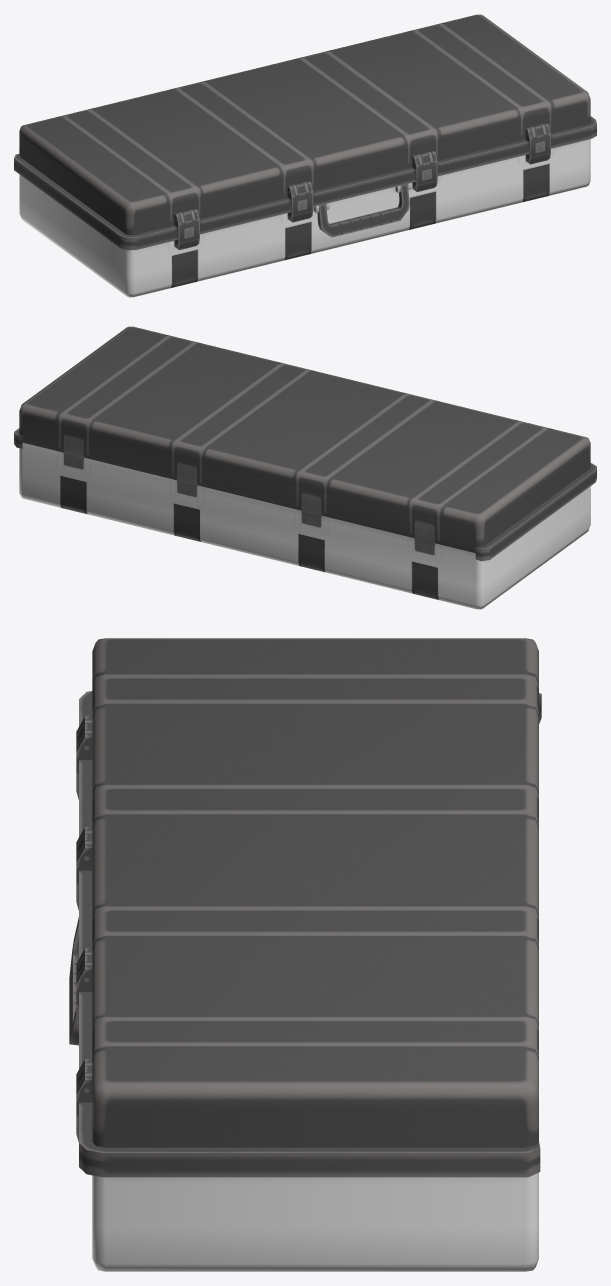
Rendered from WeaponStorageCase02_3.FBX.
3 views of the same model, one above another, from view 1: azimuth 30°, elevation 25°; view 2: azimuth 150°, elevation 25°; view 3: azimuth 270°, elevation 25° (orthographic). The views are drawn at different scales.
Visible parts, largest first — view 1: Cover3, WeaponCase02_3; view 2: Cover3, WeaponCase02_3; view 3: Cover3, WeaponCase02_3.
Part boxes in pixels (box(x1,y1,x2,y2)): Cover3: box(14, 14, 596, 250); WeaponCase02_3: box(14, 130, 596, 297); Cover3: box(14, 326, 596, 554); WeaponCase02_3: box(14, 438, 596, 609); Cover3: box(76, 638, 541, 1165); WeaponCase02_3: box(69, 706, 541, 1271).
Size of what is drawn, in the model's own units: 1.23 by 0.2334 by 0.5284.
